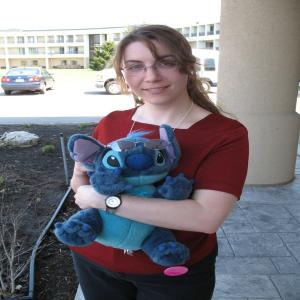Vehicle-registration-plate: (17, 80, 25, 83)
